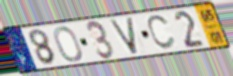2: (173, 9, 209, 50)
3: (86, 19, 116, 62)
8: (28, 28, 58, 67)
C: (146, 13, 177, 51)
O: (52, 25, 84, 63)
V: (107, 16, 140, 56)
